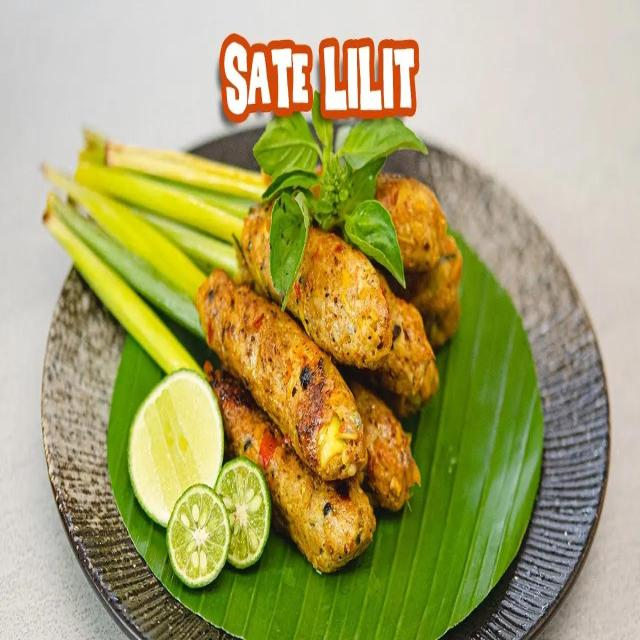Sate: (64, 68, 418, 571)
